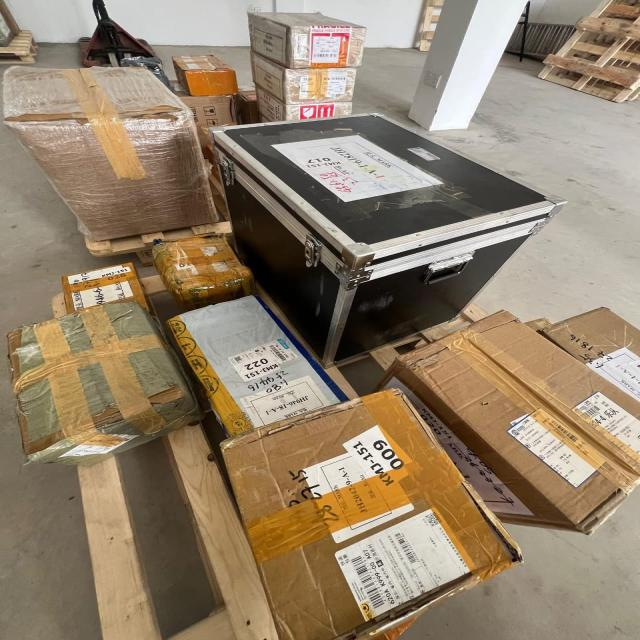carton_box: (200, 393, 559, 640), (391, 310, 640, 549), (0, 50, 220, 255), (158, 293, 358, 458), (3, 304, 190, 468), (541, 303, 640, 428), (152, 233, 260, 301), (60, 268, 165, 326)
export_mark_label: (322, 521, 489, 617), (292, 130, 431, 206), (500, 408, 615, 490), (570, 386, 640, 459), (580, 338, 640, 400), (67, 268, 140, 310)
wooden_box: (197, 108, 545, 342)
